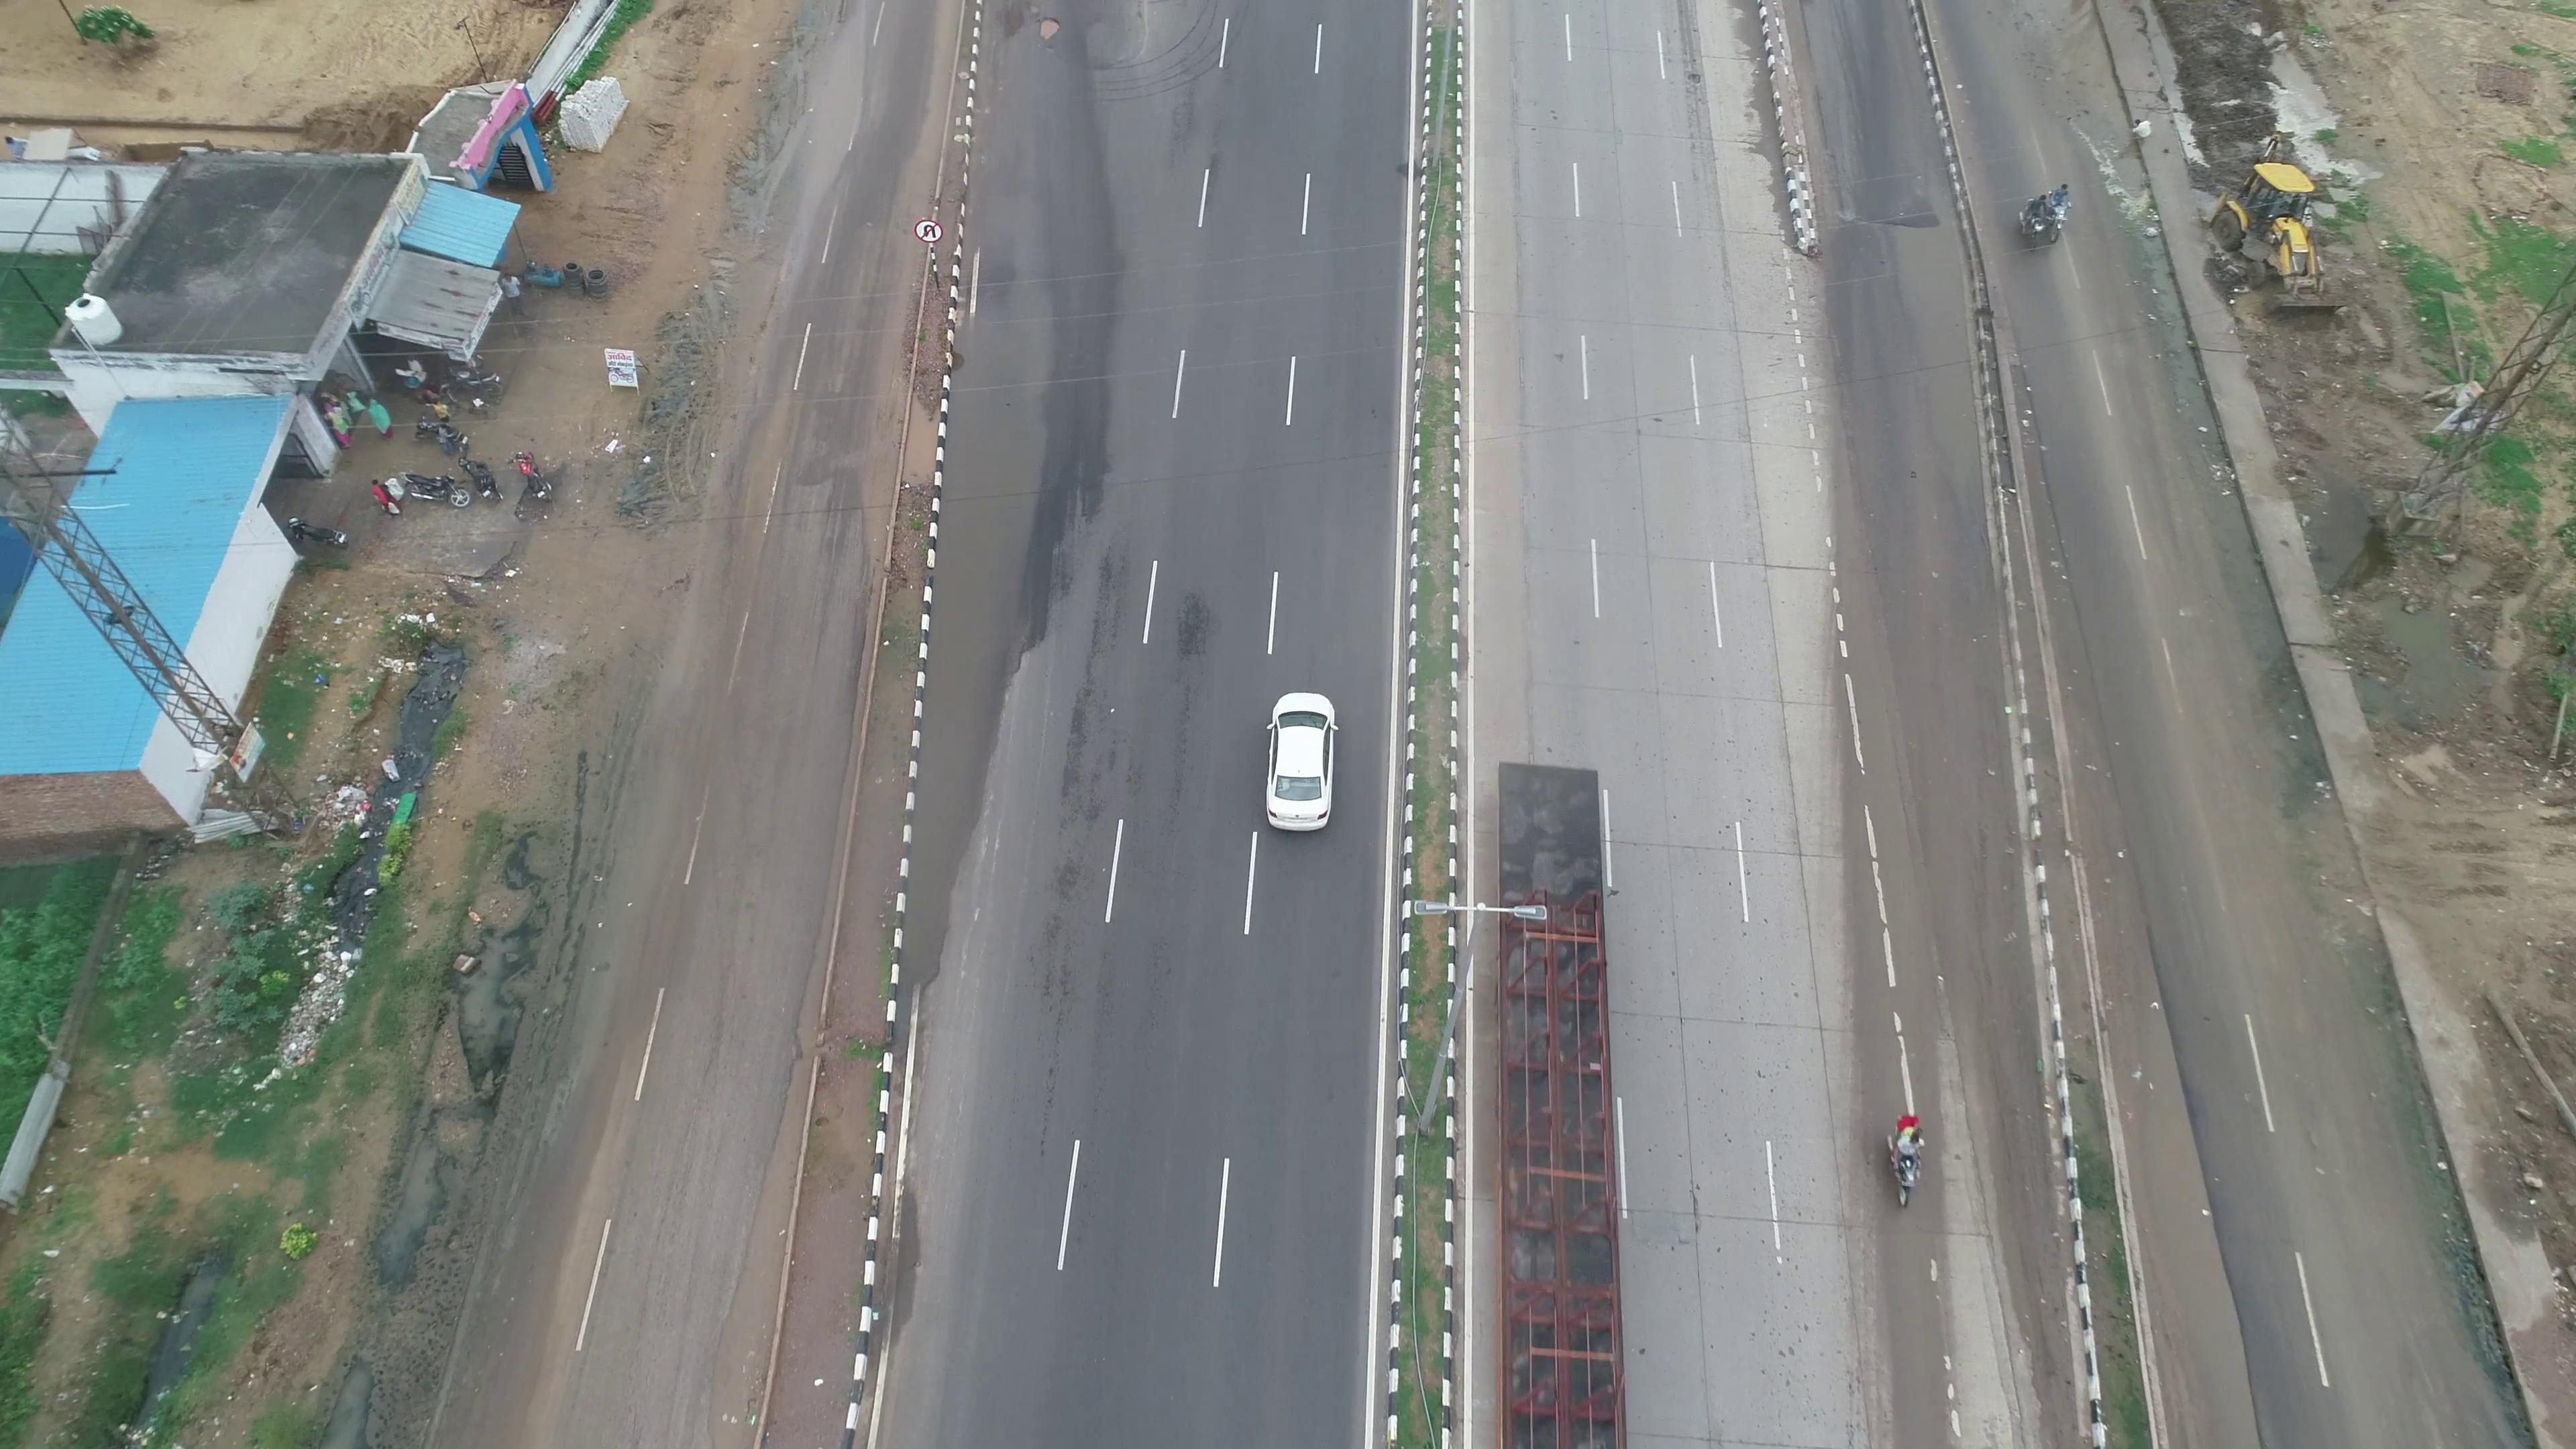Ravelling: (1023, 602, 1145, 1014)
Waterlogging: (915, 318, 1051, 839)
